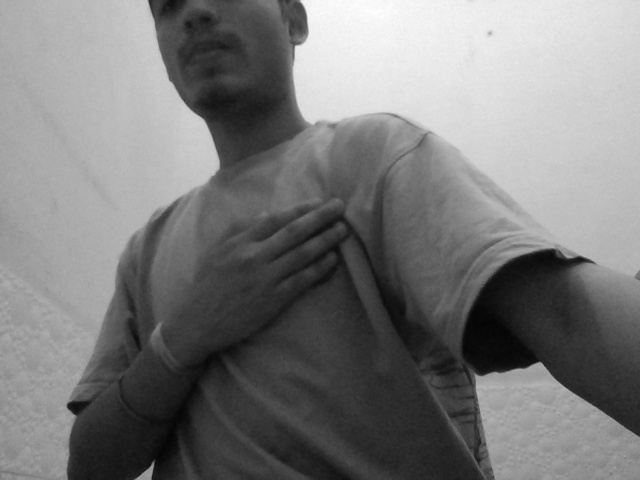Sorry: (162, 194, 375, 368)
